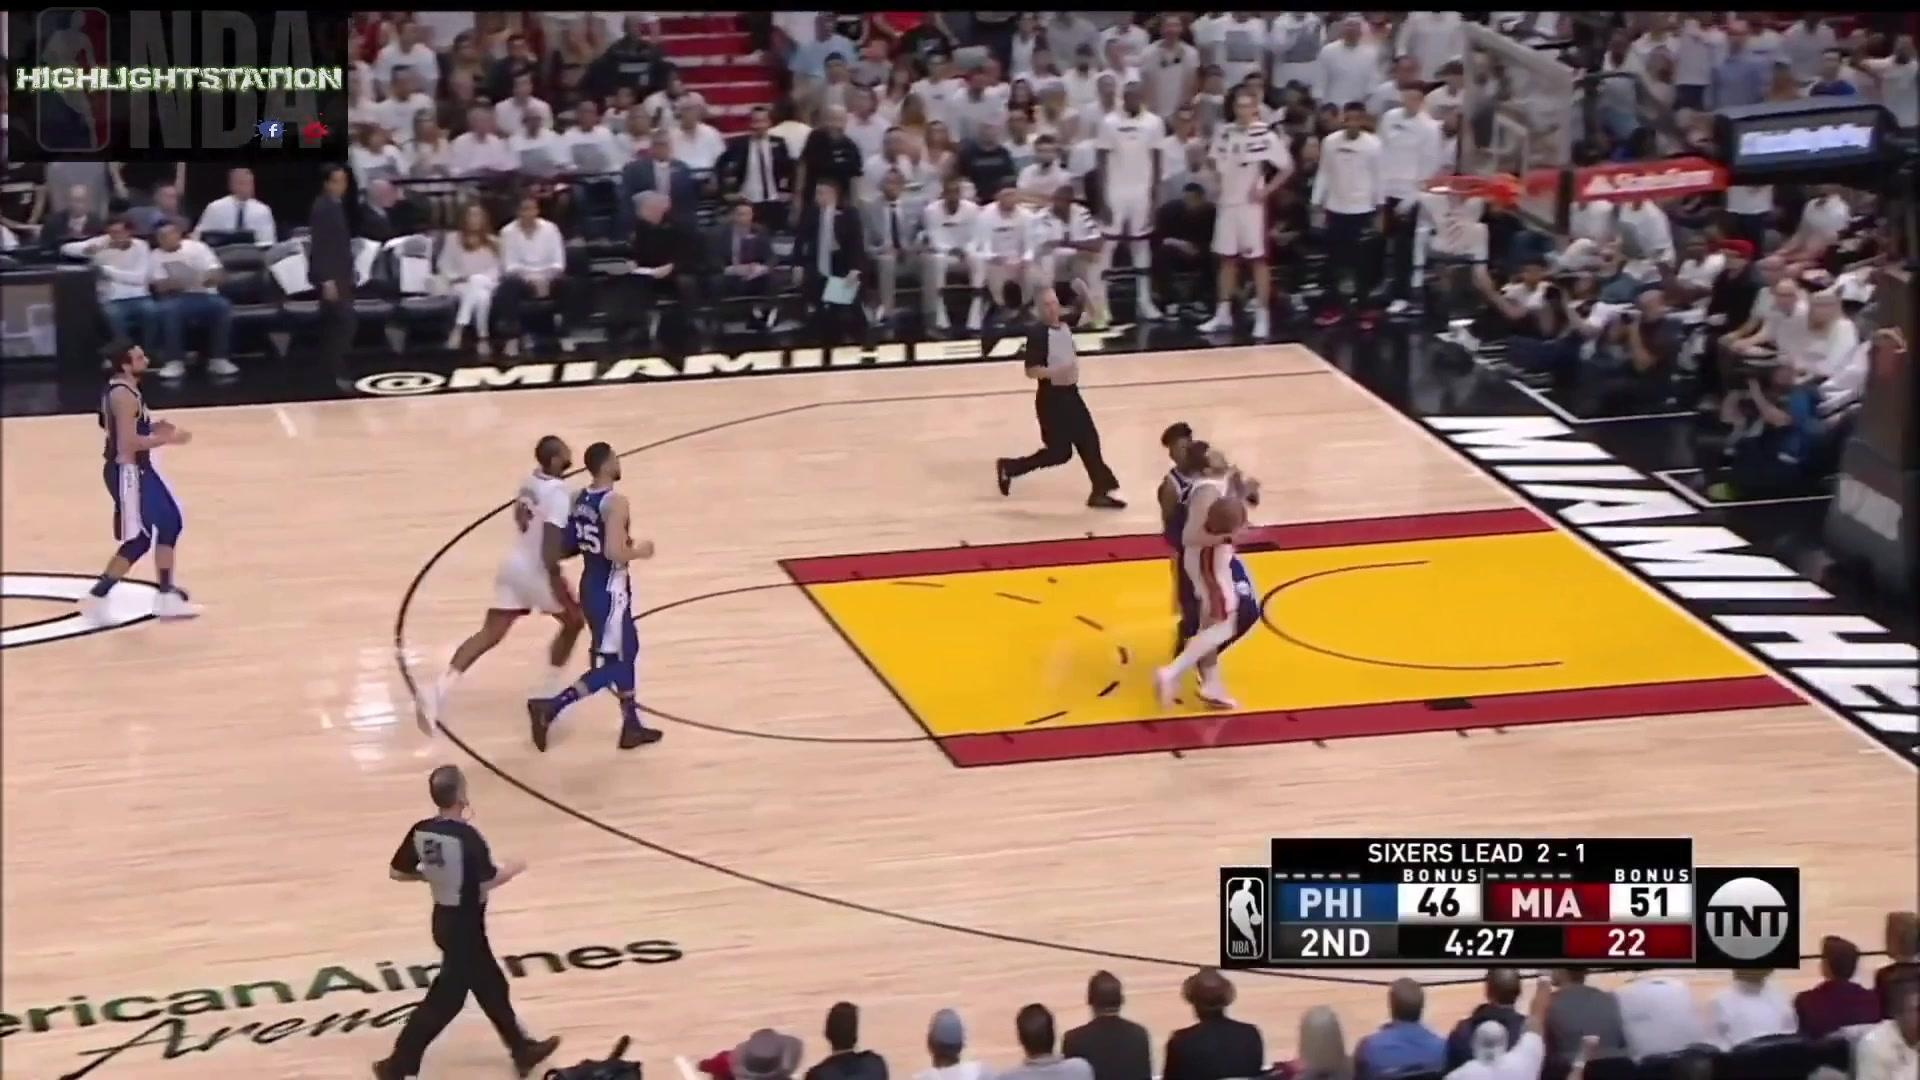foul: (1135, 418, 1296, 704)
